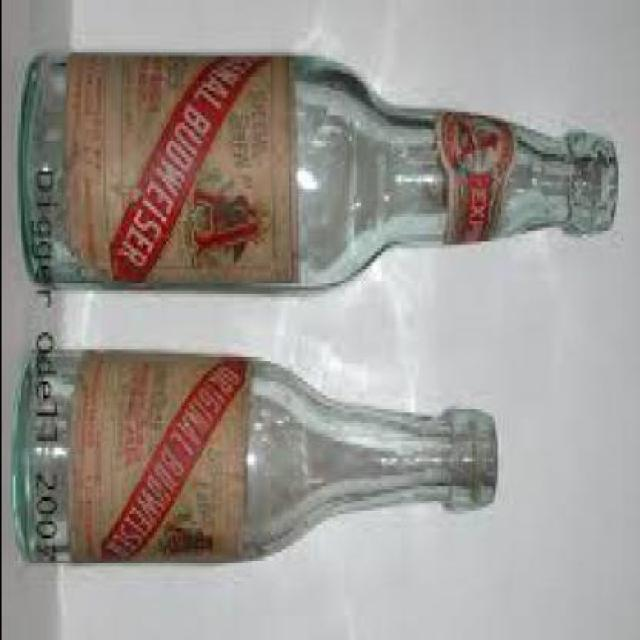GLASS: (21, 56, 619, 287), (12, 339, 498, 556)
